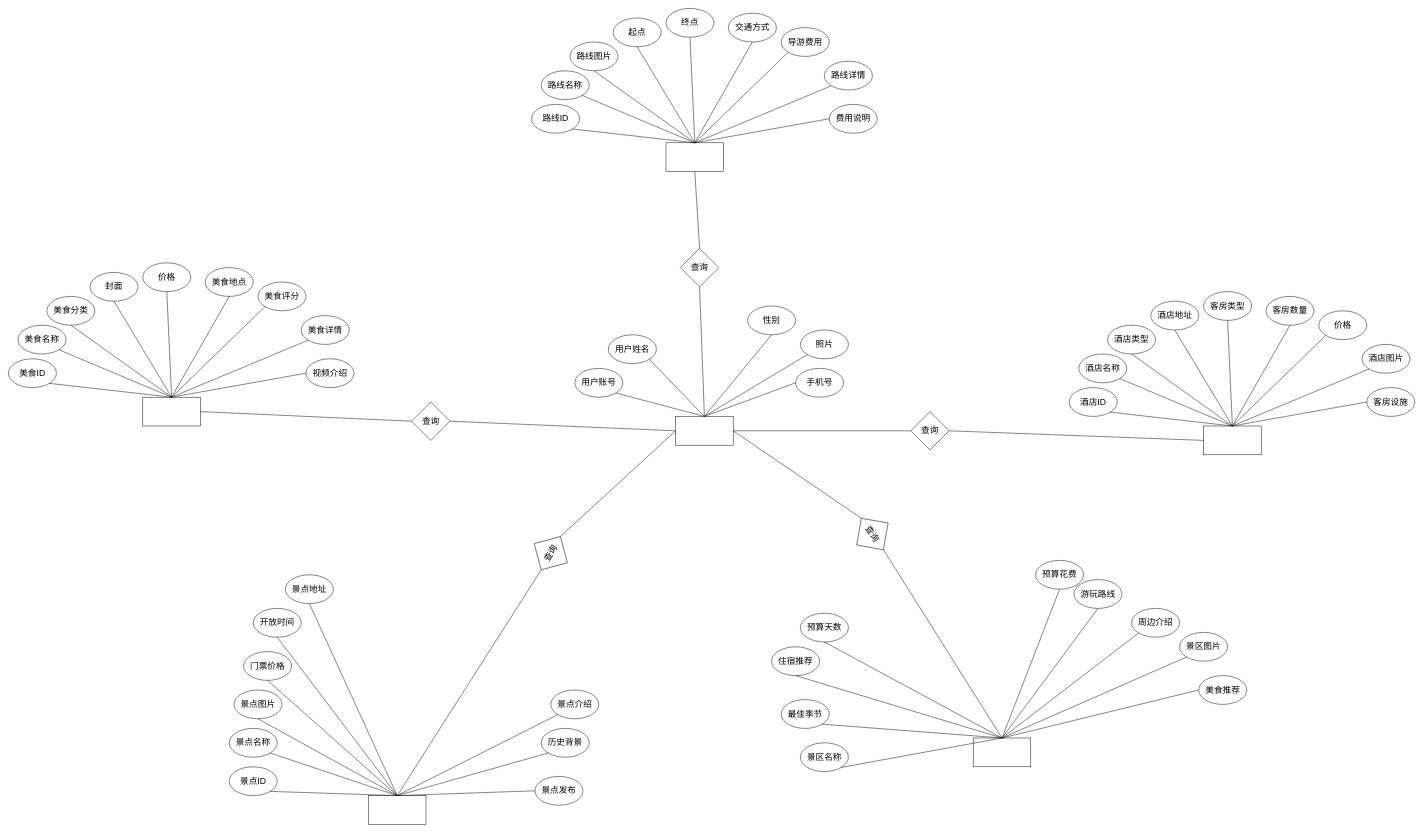
The diagram is 1423 pixels wide and 833 high, and some of its shapes have lost their labels. Here are the shapes that lost their labels. From the top down, the centre of each, then its label:
(695,157): 旅游路线
(171,411): 美食信息
(704,430): 用户
(1232,440): 酒店信息
(1002,752): 旅游攻略
(397,809): 景点信息
